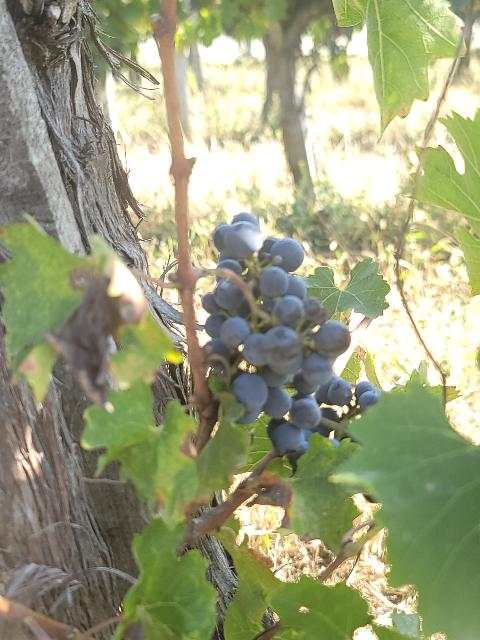grapes: (202, 212, 350, 459)
